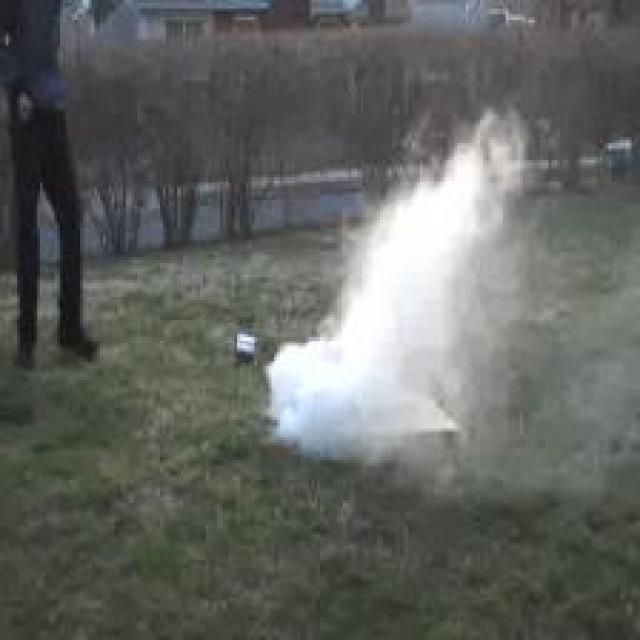Smoke: (264, 118, 528, 456)
